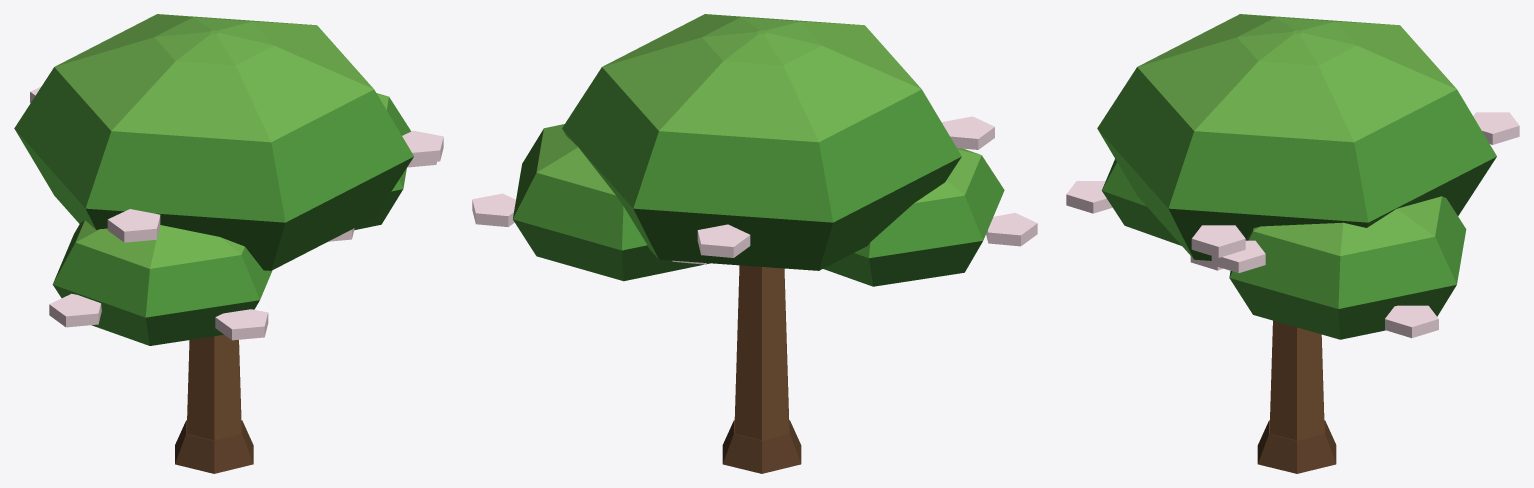
Rendered from apple-3.glb.
3 renders of one model, left to right at view 1: azimuth 30°, elevation 25°; view 2: azimuth 150°, elevation 25°; view 3: azimuth 270°, elevation 25°, orthographic.
Visible parts, largest first — view 1: apple-3; view 2: apple-3; view 3: apple-3.
Part boxes in pixels (bbox=[...]): apple-3: bbox=[14, 14, 443, 473]; apple-3: bbox=[472, 14, 1037, 473]; apple-3: bbox=[1066, 14, 1519, 473].
Bounding box in the file's own units: 0.5061 × 0.46 × 0.4474.
1 material, 1 textured.
